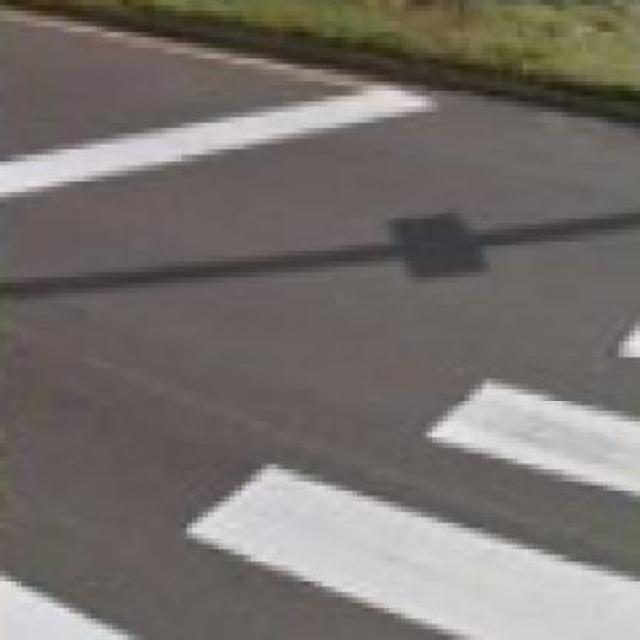crosswalk: (0, 313, 640, 640)
